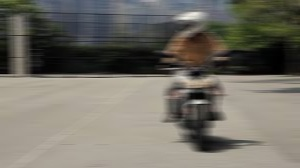Vehicle: (153, 47, 232, 152)
